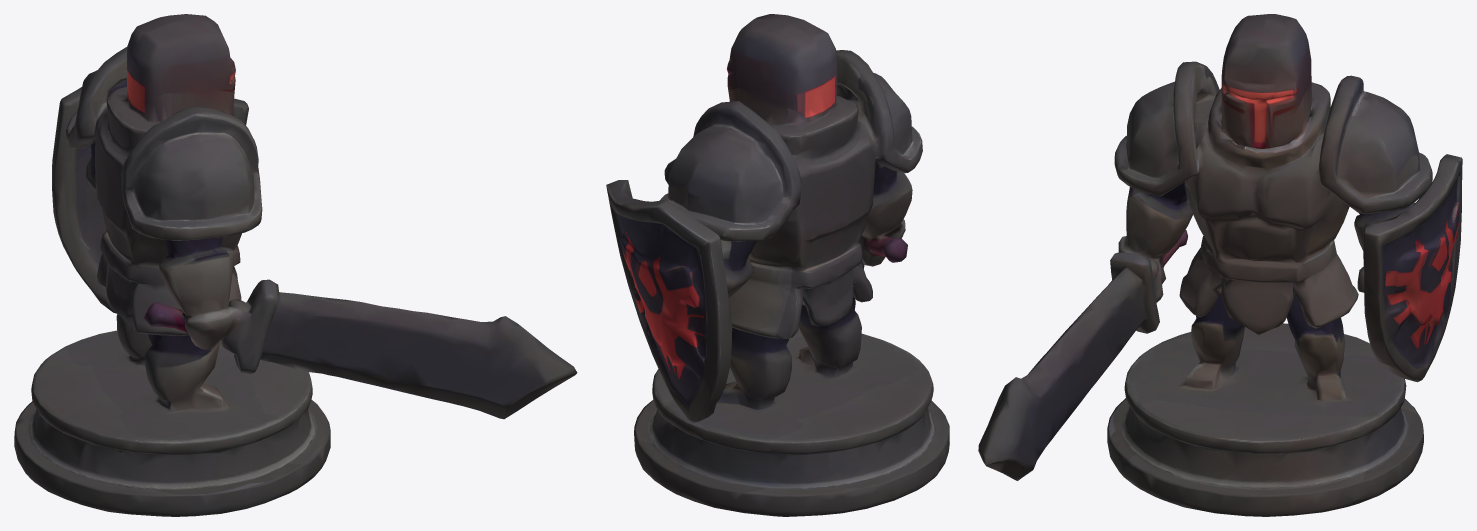
File: ganon_knight_darknut.glb
3 views of the same model, side by side, from view 1: azimuth 30°, elevation 25°; view 2: azimuth 150°, elevation 25°; view 3: azimuth 270°, elevation 25° (orthographic).
Visible parts, largest first — view 1: tripo_node_d3c31d7e-df6e-4903-b482-daee847bf1d4; view 2: tripo_node_d3c31d7e-df6e-4903-b482-daee847bf1d4; view 3: tripo_node_d3c31d7e-df6e-4903-b482-daee847bf1d4.
Part boxes in pixels (x1,y1,x2,y2): tripo_node_d3c31d7e-df6e-4903-b482-daee847bf1d4: [14, 14, 577, 516]; tripo_node_d3c31d7e-df6e-4903-b482-daee847bf1d4: [606, 14, 949, 516]; tripo_node_d3c31d7e-df6e-4903-b482-daee847bf1d4: [978, 14, 1462, 516].
Size of the model in its own units: 0.9105 by 0.9283 by 0.9399.
1 material, 1 textured.
